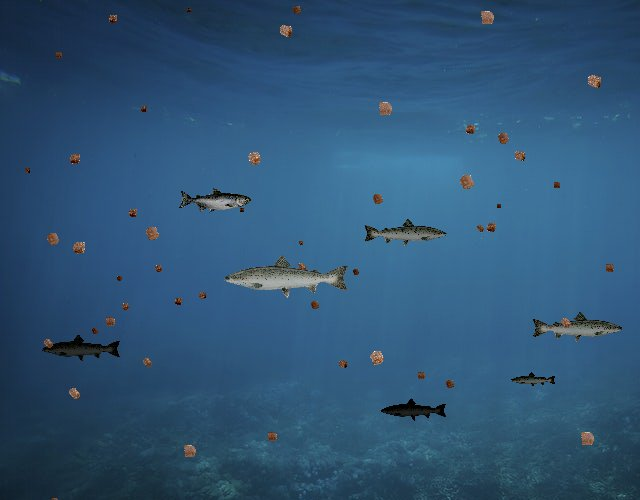Fish: (222, 253, 351, 299), (530, 311, 624, 344), (362, 217, 448, 248), (42, 334, 123, 363), (178, 188, 251, 214), (381, 397, 449, 422), (510, 371, 557, 388)
Pellet: (240, 144, 268, 172), (272, 18, 299, 45), (62, 381, 87, 406), (21, 165, 33, 177)
